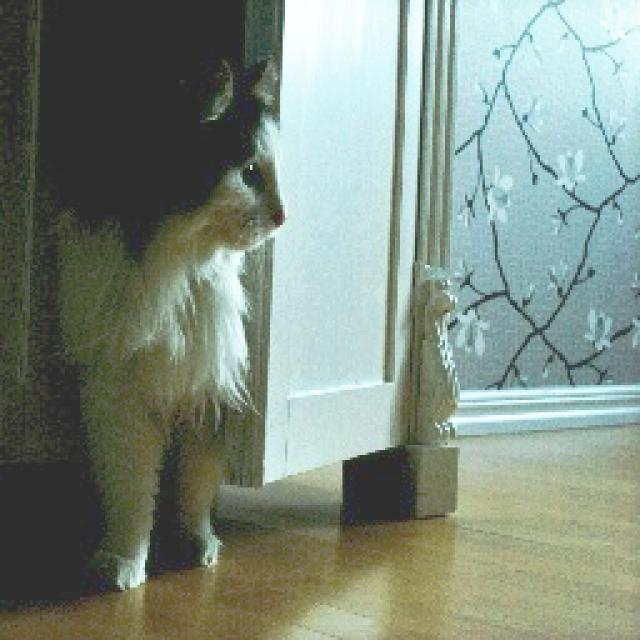cat: (2, 4, 323, 604)
